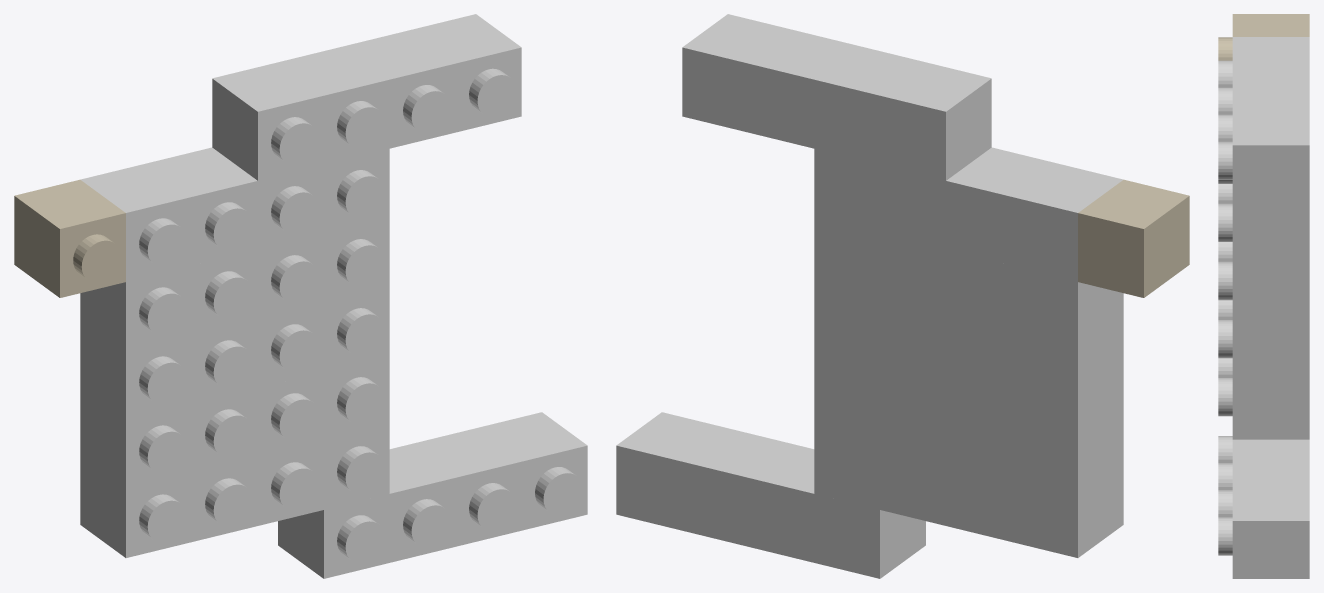
File: current.glb
The picture shows the model from 3 angles, left to right: view 1: azimuth 30°, elevation 25°; view 2: azimuth 150°, elevation 25°; view 3: azimuth 270°, elevation 25°; orthographic projection. The views are drawn at different scales.
Visible parts, largest first — view 1: world; view 2: world; view 3: world.
Boxes of the visible parts, x1=… form: world: x1=14, y1=14, x2=587, y2=578; world: x1=616, y1=14, x2=1189, y2=578; world: x1=1218, y1=14, x2=1309, y2=578.
Size of the model in its own units: 64 by 56 by 11.4.
